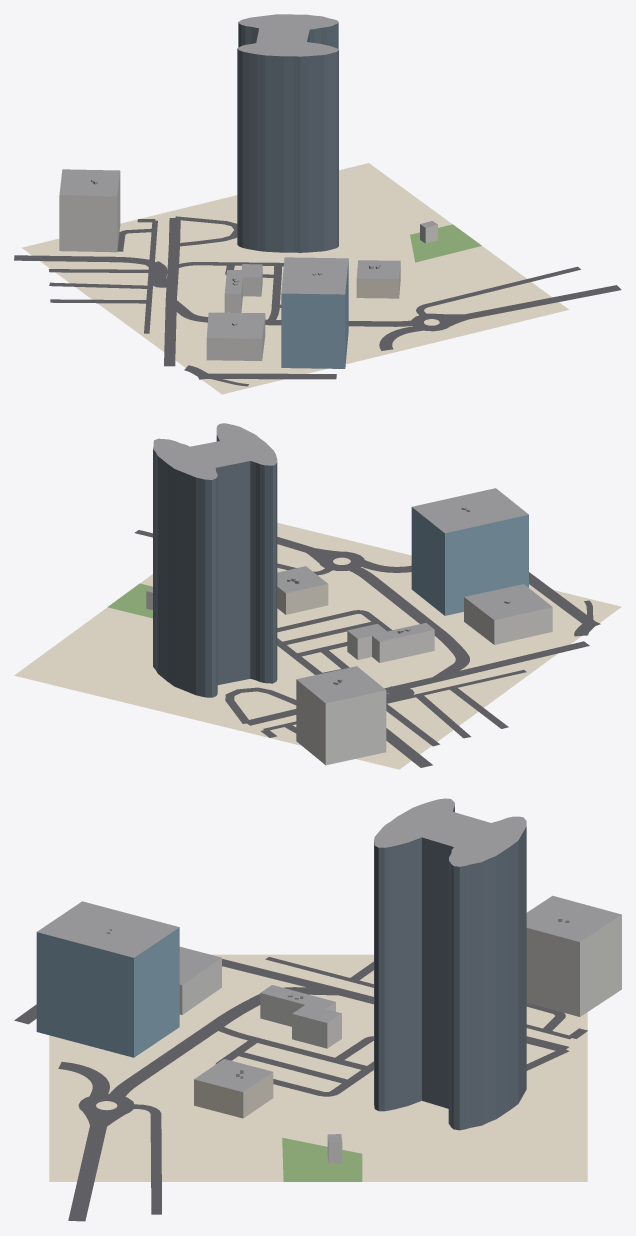
Rendered from tile_-1_-4_far.glb.
3 views of the same model, one above another, from view 1: azimuth 30°, elevation 25°; view 2: azimuth 150°, elevation 25°; view 3: azimuth 270°, elevation 25° (orthographic). The views are drawn at different scales.
Visible parts, largest first — view 1: nature_ground, buildings_glass_dark, roads_asphalt, buildings_roof, buildings_concrete_light, buildings_glass_blue, nature_grass, buildings_concrete_warm; view 2: nature_ground, buildings_glass_dark, buildings_roof, roads_asphalt, buildings_concrete_light, buildings_glass_blue, buildings_concrete_warm, nature_grass; view 3: nature_ground, buildings_glass_dark, buildings_roof, buildings_glass_blue, roads_asphalt, buildings_concrete_light, nature_grass, buildings_concrete_warm.
Part boxes in pixels (<box>): nature_ground: <box>22,163,568,394</box>; buildings_glass_dark: <box>237,22,338,252</box>; roads_asphalt: <box>14,216,621,386</box>; buildings_roof: <box>59,14,437,338</box>; buildings_concrete_light: <box>59,171,437,360</box>; buildings_glass_blue: <box>281,259,348,368</box>; nature_grass: <box>410,224,481,262</box>; buildings_concrete_warm: <box>356,262,400,298</box>; nature_ground: <box>14,522,621,769</box>; buildings_glass_dark: <box>153,435,277,697</box>; buildings_roof: <box>147,423,552,703</box>; roads_asphalt: <box>135,530,600,767</box>; buildings_concrete_light: <box>146,591,552,765</box>; buildings_glass_blue: <box>411,507,528,615</box>; buildings_concrete_warm: <box>277,584,328,614</box>; nature_grass: <box>107,583,152,618</box>; nature_ground: <box>49,954,587,1181</box>; buildings_glass_dark: <box>374,806,526,1130</box>; buildings_roof: <box>37,798,621,1142</box>; buildings_glass_blue: <box>36,927,179,1057</box>; roads_asphalt: <box>14,957,587,1221</box>; buildings_concrete_light: <box>179,915,621,1163</box>; nature_grass: <box>282,1137,362,1181</box>; buildings_concrete_warm: <box>194,1072,273,1118</box>.
Bounding box in the file's own units: 319 × 135 × 282.
